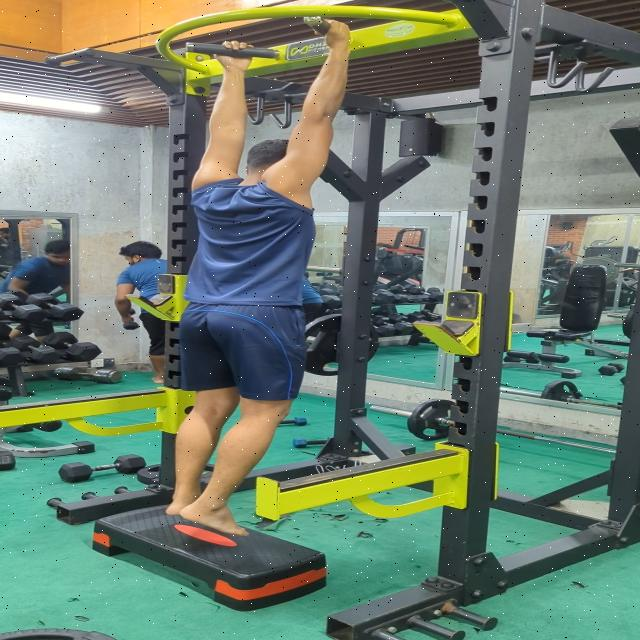Normal_PullUps: (158, 19, 366, 536)
